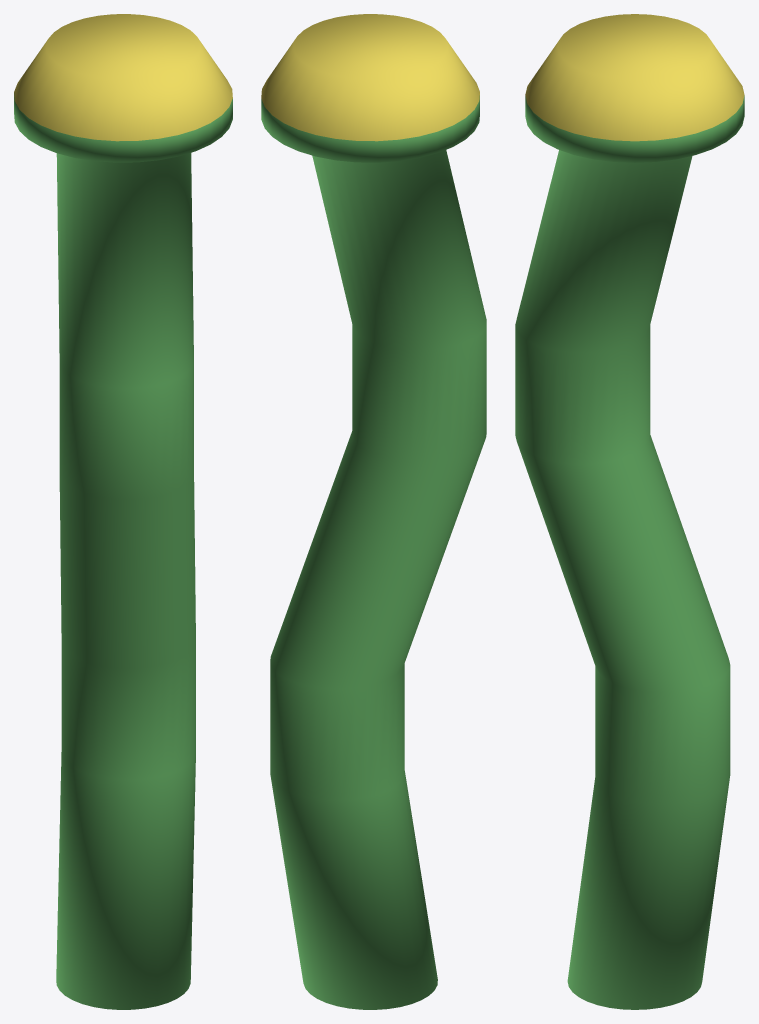
The model's file is Flower3.glb.
The picture shows the model from 3 angles, left to right: view 1: azimuth 30°, elevation 25°; view 2: azimuth 150°, elevation 25°; view 3: azimuth 270°, elevation 25°; orthographic projection.
Parts seen in each view (by area): view 1: Circle.001; view 2: Circle.001; view 3: Circle.001.
Part boxes in pixels (<box>): Circle.001: <box>14,14,232,1009</box>; Circle.001: <box>261,14,486,1009</box>; Circle.001: <box>515,14,744,1009</box>.
Size of the model in its own units: 0.3665 by 1.72 by 0.383.
